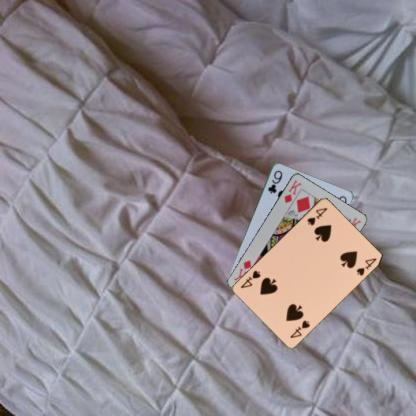4s: (304, 204, 329, 226), (287, 317, 312, 339)
9c: (266, 168, 284, 194)
Kd: (281, 176, 303, 204)
